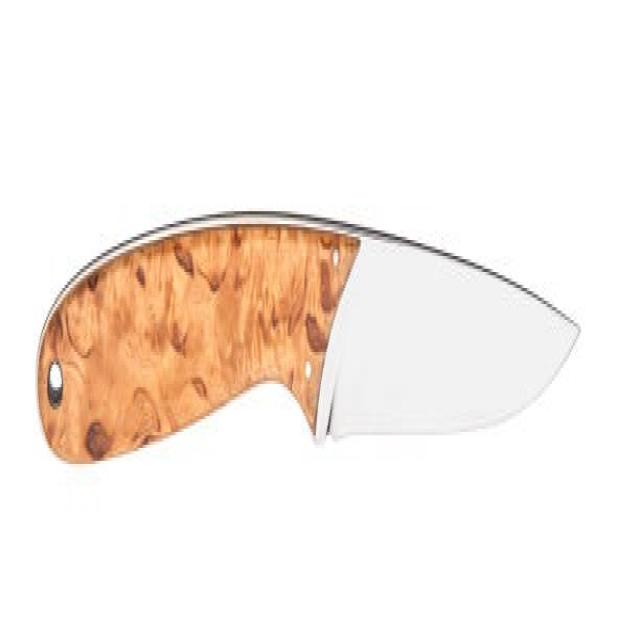knife: (27, 183, 590, 497)
